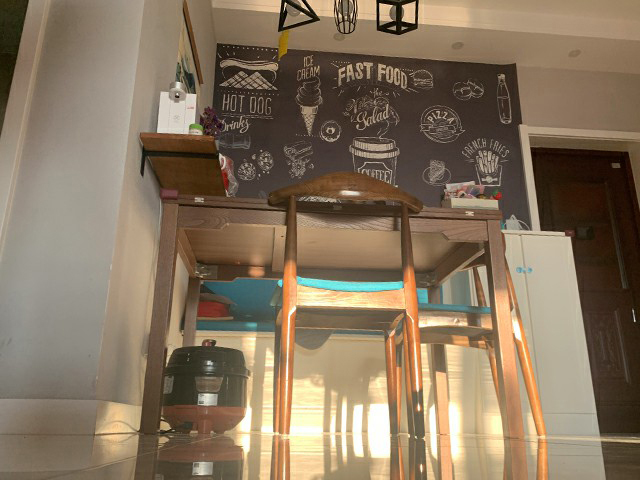cabinet: (450, 229, 600, 439)
stool: (266, 169, 426, 439), (394, 232, 549, 441)
table: (140, 187, 525, 438)
wire: (160, 417, 195, 436)
